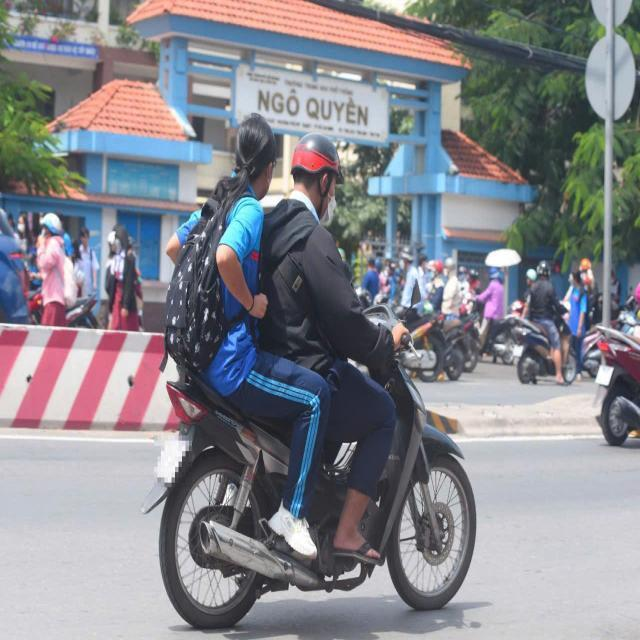motorcycle: (145, 297, 478, 633), (587, 313, 640, 455), (496, 310, 571, 384)
